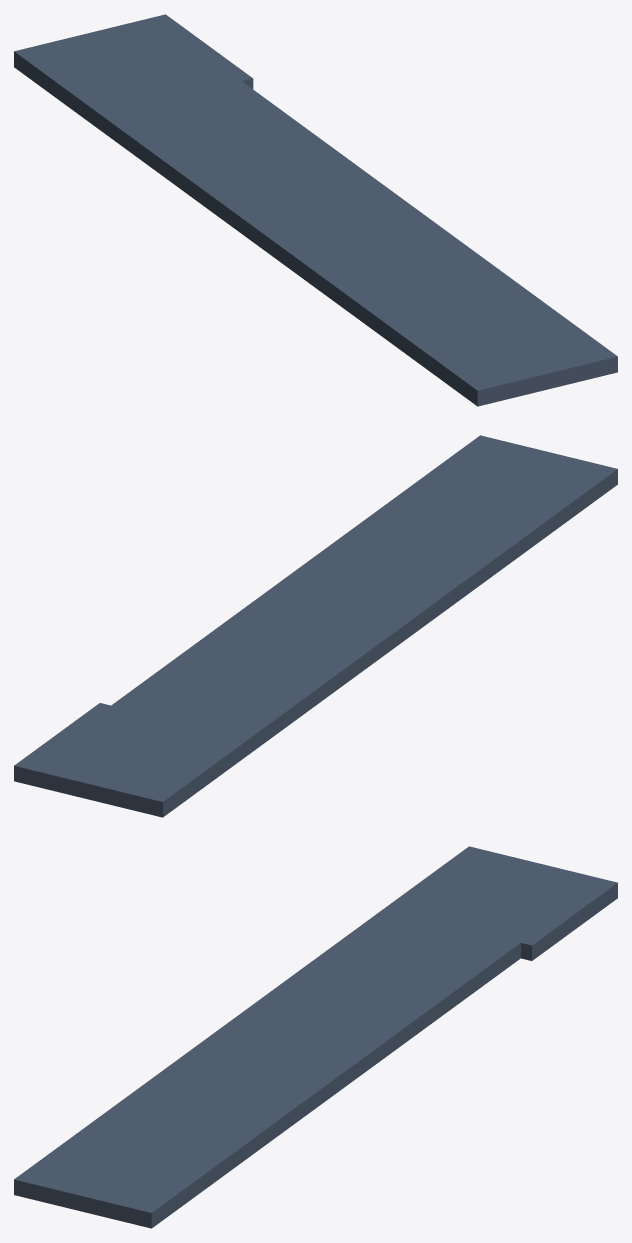
The model's file is floor_002_t_utilities_floor_07.obj.
3 views of the same model, one above another, from view 1: azimuth 30°, elevation 25°; view 2: azimuth 150°, elevation 25°; view 3: azimuth 330°, elevation 25° (orthographic).
Visible parts, largest first — view 1: Floor_002_t_utilities_floor_07; view 2: Floor_002_t_utilities_floor_07; view 3: Floor_002_t_utilities_floor_07.
Boxes of the visible parts, x1=… form: Floor_002_t_utilities_floor_07: x1=14, y1=14, x2=617, y2=406; Floor_002_t_utilities_floor_07: x1=14, y1=435, x2=617, y2=817; Floor_002_t_utilities_floor_07: x1=14, y1=846, x2=617, y2=1228.
Size of the model in its own units: 2 by 0.2 by 10.59.
